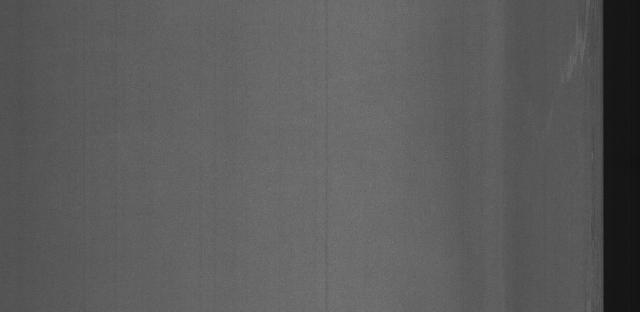silk_spot: (542, 12, 593, 87)
